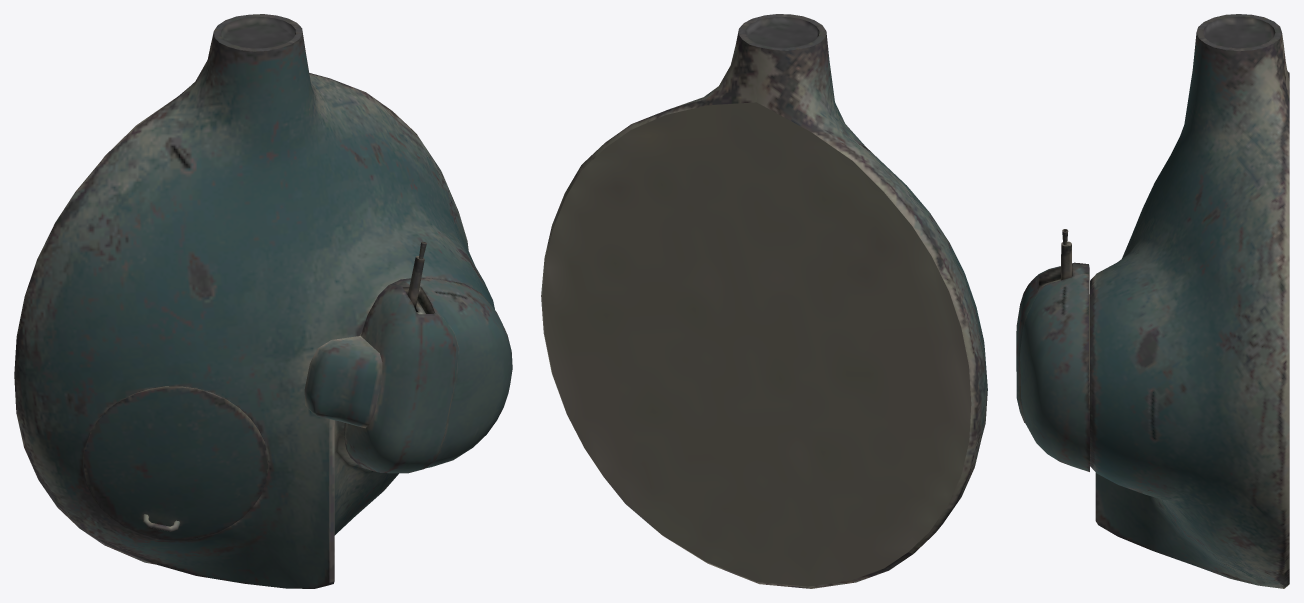
The model's file is Turret_01.glb.
3 views of the same model, side by side, from view 1: azimuth 30°, elevation 25°; view 2: azimuth 150°, elevation 25°; view 3: azimuth 270°, elevation 25° (orthographic).
Visible parts, largest first — view 1: set_0_group_0; view 2: set_0_group_0; view 3: set_0_group_0.
Boxes of the visible parts, x1=… form: set_0_group_0: x1=14, y1=14, x2=512, y2=588; set_0_group_0: x1=541, y1=14, x2=987, y2=588; set_0_group_0: x1=1016, y1=14, x2=1289, y2=588.
Bounding box in the file's own units: 1.54 × 1.8 × 0.8343.
1 material, 1 textured.
